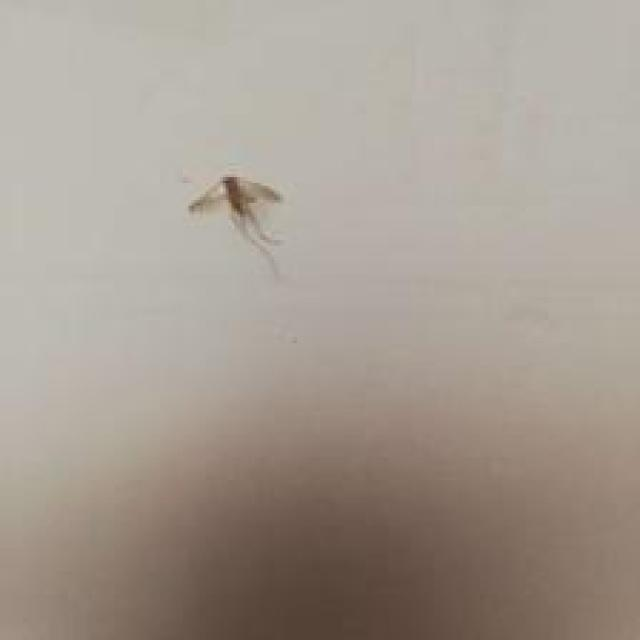Culex: (187, 173, 284, 276)
